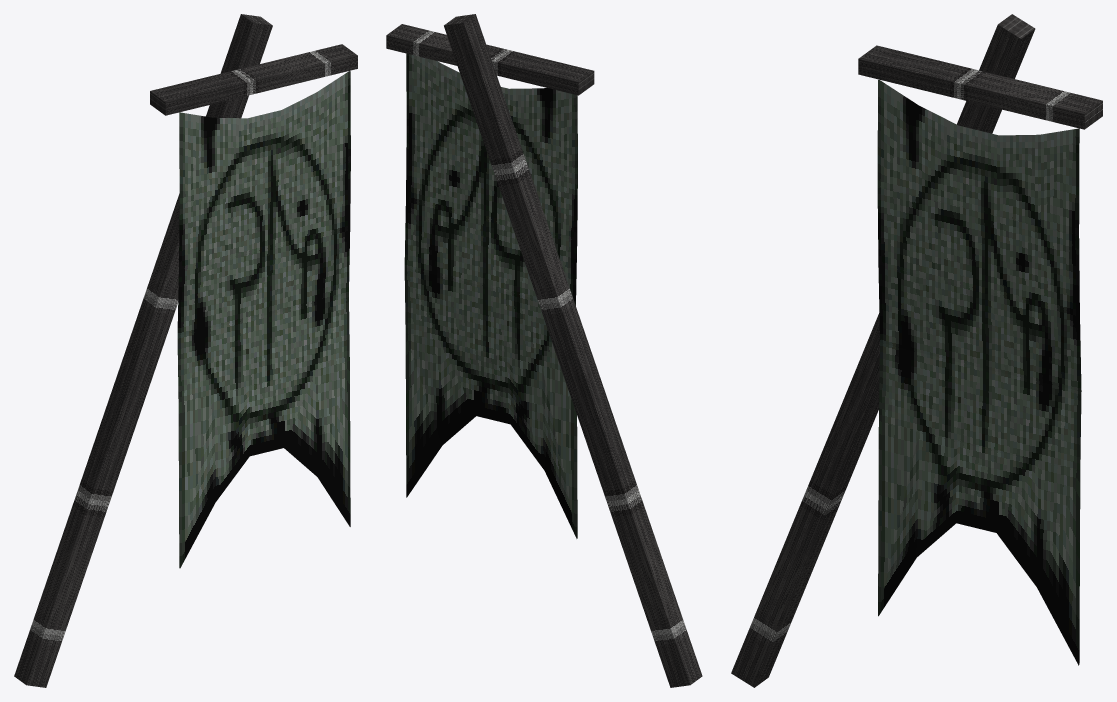
The model's file is DFlag2.fbx.
3 views of the same model, side by side, from view 1: azimuth 30°, elevation 25°; view 2: azimuth 150°, elevation 25°; view 3: azimuth 330°, elevation 25° (orthographic). The views are drawn at different scales.
Visible parts, largest first — view 1: DFLAG2; view 2: DFLAG2; view 3: DFLAG2.
Part boxes in pixels (bbox=[...]): DFLAG2: bbox=[14, 14, 357, 687]; DFLAG2: bbox=[386, 14, 702, 687]; DFLAG2: bbox=[731, 14, 1102, 687].
Size of the model in its own units: 14.93 by 27.74 by 2.31.
